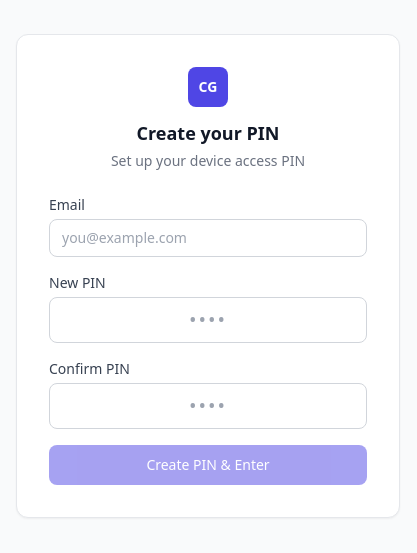
Test: registration: PIN mismatch shows error
Type "test@test.com" into the field labelled "Email" at (208, 238), box [49,219,367,257]
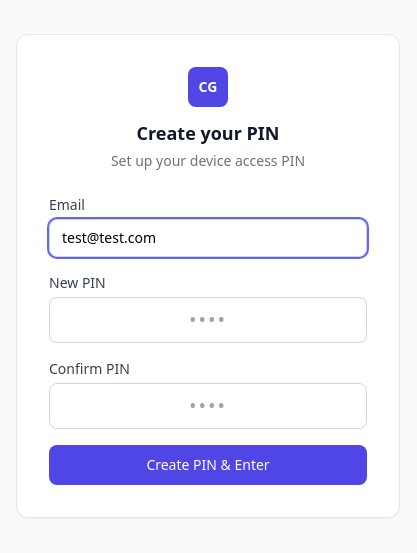
Type "1234" into the password field labelled "New PIN" at (208, 320), box [49,297,367,343]
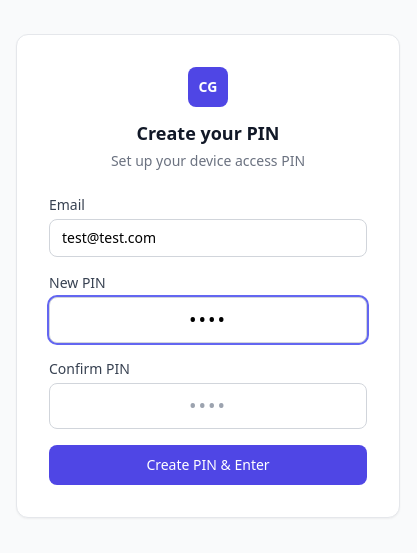
Type "5678" into the password field labelled "Confirm PIN" at (208, 406), box [49,383,367,429]
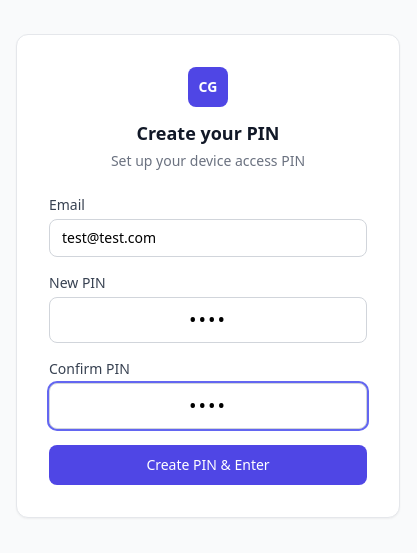
Click the button "Create PIN & Enter" at (208, 465), box [49,445,367,485]
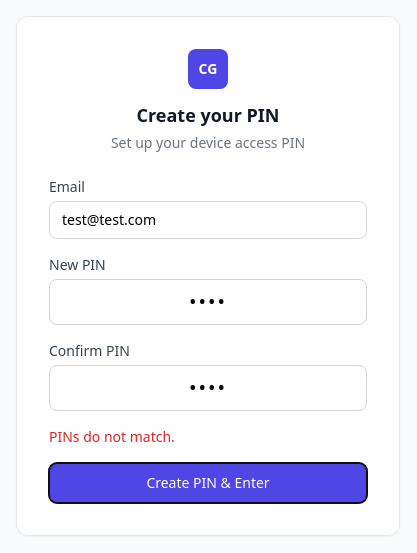
Expected: the message shows "PINs do not match", [49,427,175,446]
